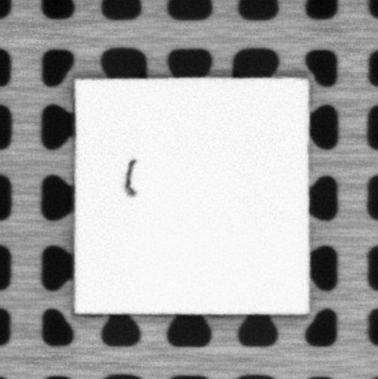DIE_INK: (124, 159, 139, 199)
